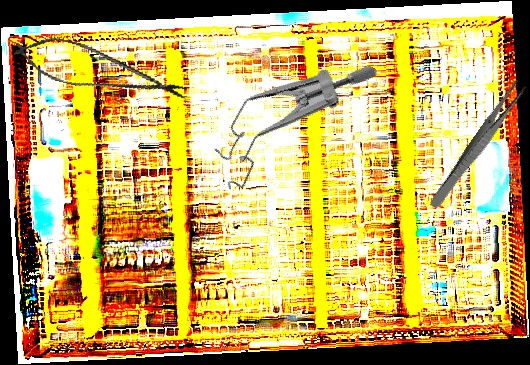Dressing Forceps: (427, 78, 529, 212)
Micro Scissor: (6, 27, 194, 113)
Speculum: (199, 18, 380, 225)
